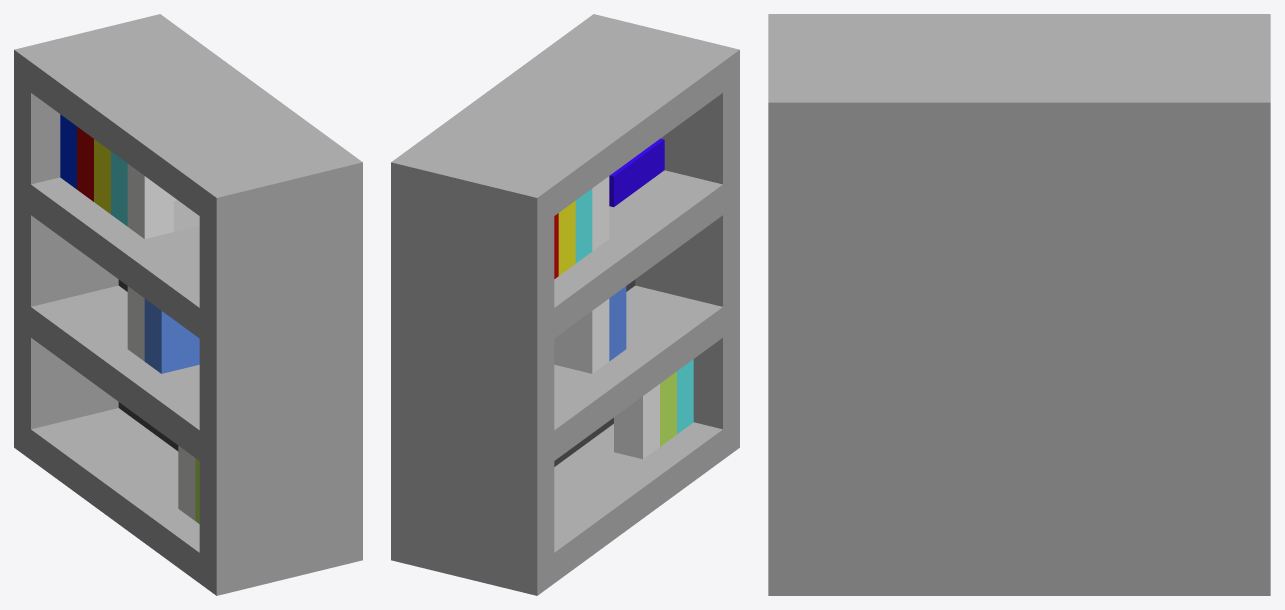
File: bookcase.obj
The picture shows the model from 3 angles, left to right: view 1: azimuth 30°, elevation 25°; view 2: azimuth 150°, elevation 25°; view 3: azimuth 270°, elevation 25°; orthographic projection. The views are drawn at different scales.
Bounding box in the file's own units: 0.5 × 1.3 × 1.2.
1 material, 1 textured.
